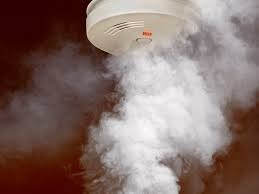smoke: (107, 57, 233, 161)
